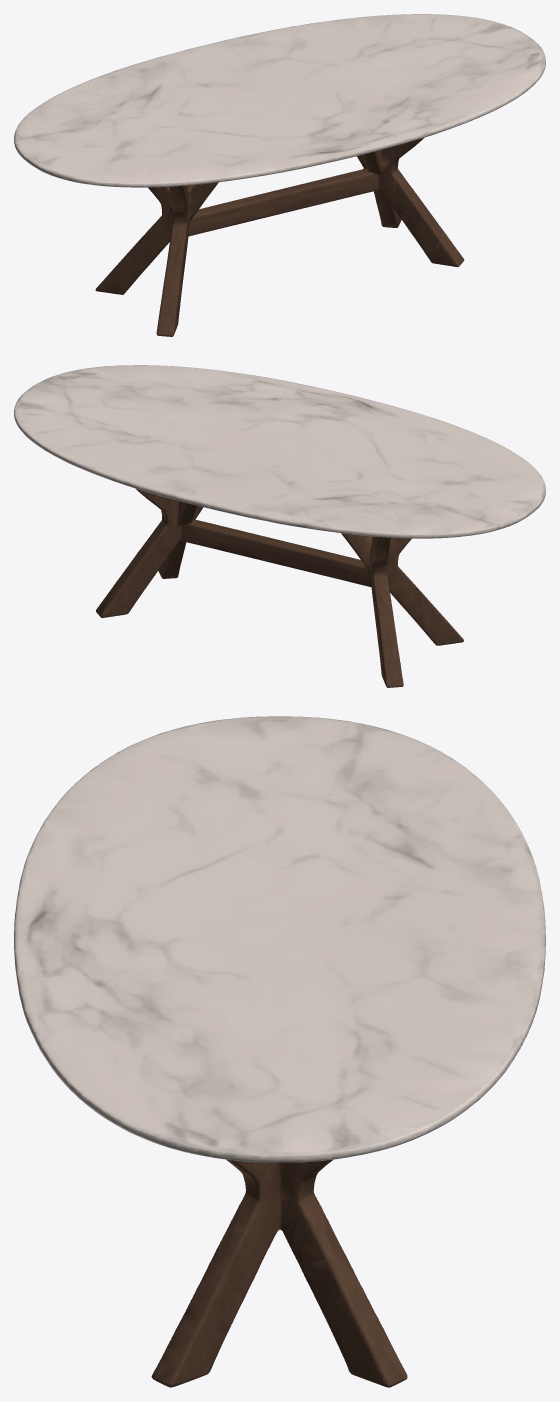
The model's file is oval-marble-dining-table.glb.
The picture shows the model from 3 angles, top to bottom: view 1: azimuth 30°, elevation 25°; view 2: azimuth 150°, elevation 25°; view 3: azimuth 270°, elevation 25°; orthographic projection. The views are drawn at different scales.
Parts seen in each view (by area): view 1: world; view 2: world; view 3: world.
Part boxes in pixels (<box>): world: <box>14,14,545,336</box>; world: <box>14,365,545,687</box>; world: <box>14,716,545,1387</box>.
Size of the model in its own units: 1 by 0.3402 by 0.5132.
1 material, 1 textured.
